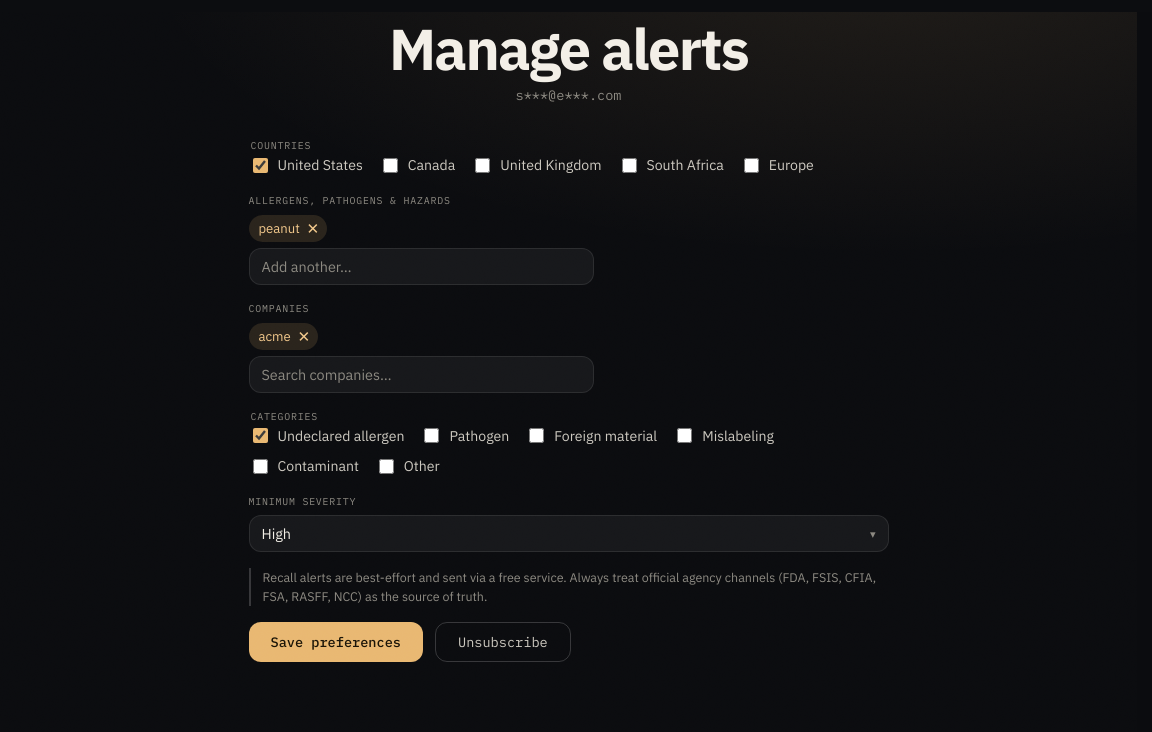
ManagePage › saves preferences via PATCH
Expected: the text "peanut" is shown, [258, 220, 300, 237]
Click the button "Save preferences": (336, 642) [248, 622, 423, 662]
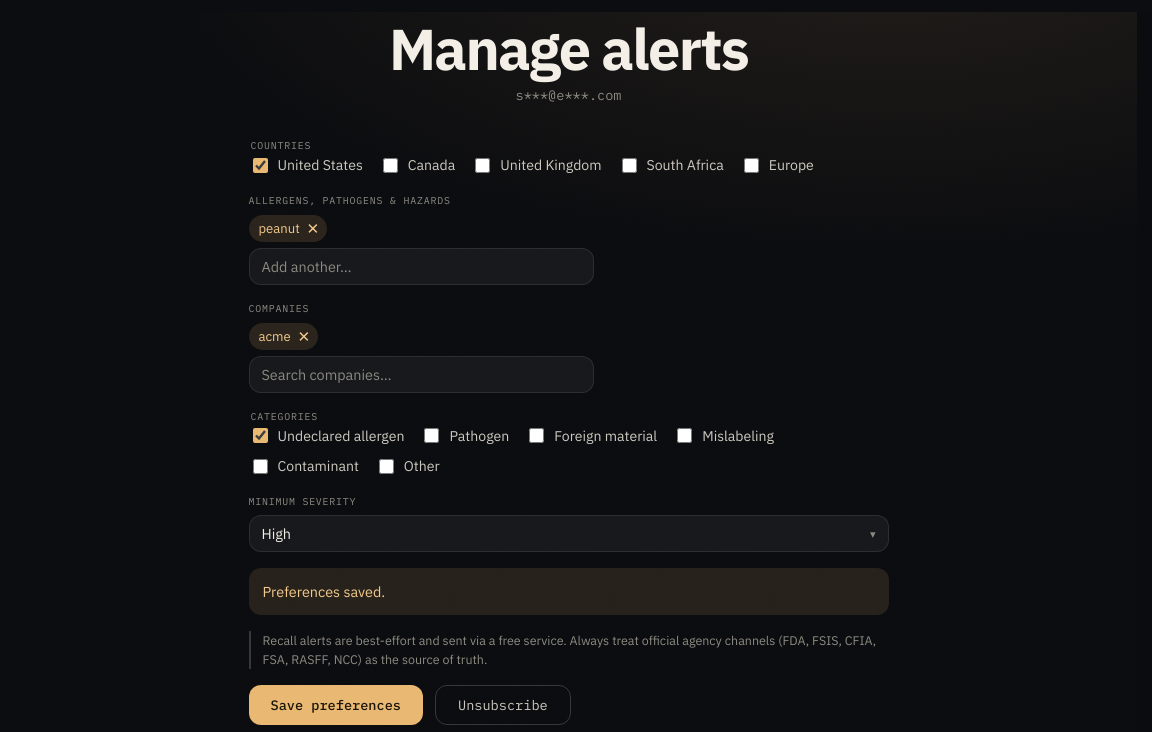
Result: the text "Preferences saved." is shown at [248, 568, 888, 615]
